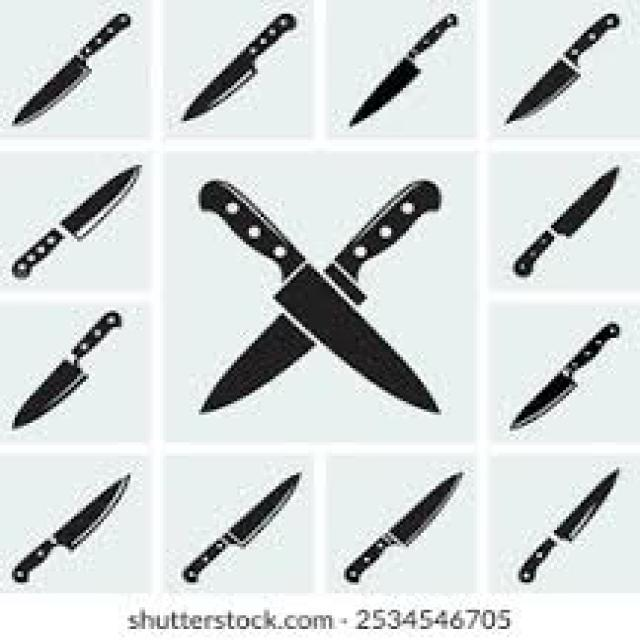Knife: (196, 176, 442, 415), (9, 162, 139, 277), (9, 11, 130, 124), (341, 470, 462, 582), (9, 470, 130, 582), (9, 307, 121, 428), (181, 470, 299, 582), (504, 11, 619, 124), (181, 11, 296, 121), (347, 11, 456, 126), (513, 162, 619, 275), (507, 322, 619, 428), (516, 467, 619, 582)
